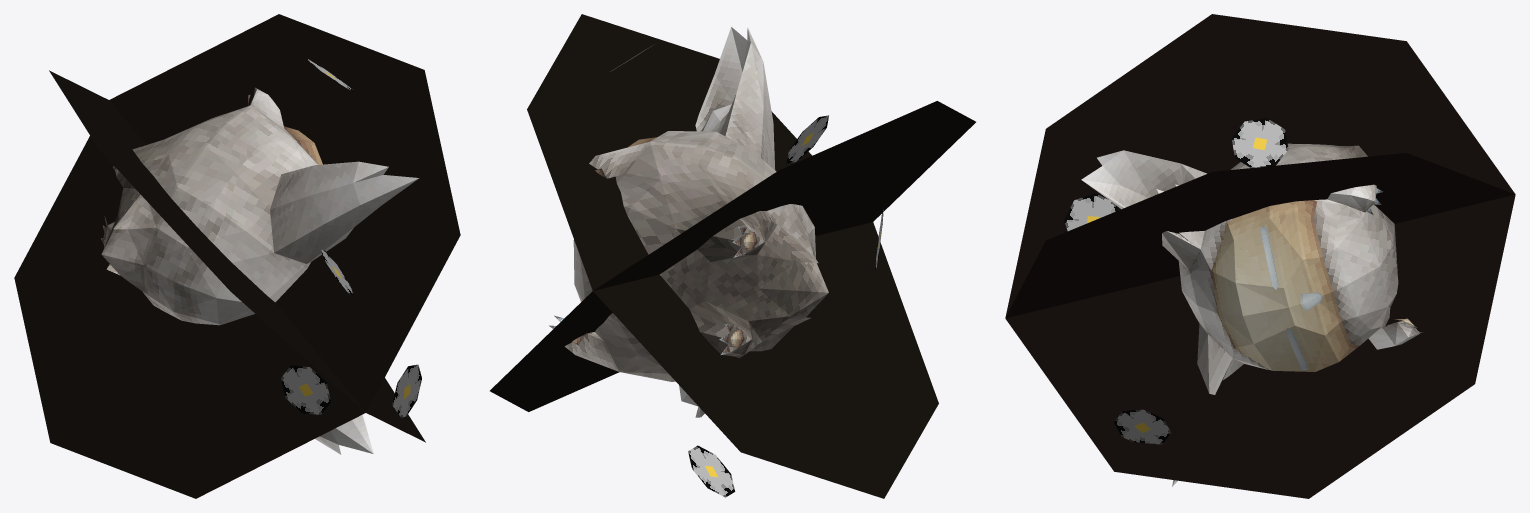
The model's file is options693.obj.
The picture shows the model from 3 angles, left to right: view 1: azimuth 30°, elevation 25°; view 2: azimuth 150°, elevation 25°; view 3: azimuth 270°, elevation 25°; orthographic projection. The views are drawn at different scales.
Parts seen in each view (by area): view 1: options693; view 2: options693; view 3: options693.
Boxes of the visible parts, x1=… form: options693: x1=14, y1=14, x2=460, y2=498; options693: x1=490, y1=14, x2=975, y2=498; options693: x1=1005, y1=14, x2=1515, y2=498.
Bounding box in the file's own units: 0.3952 × 0.4275 × 0.5399.
Materials: 2 (2 with a texture image).
